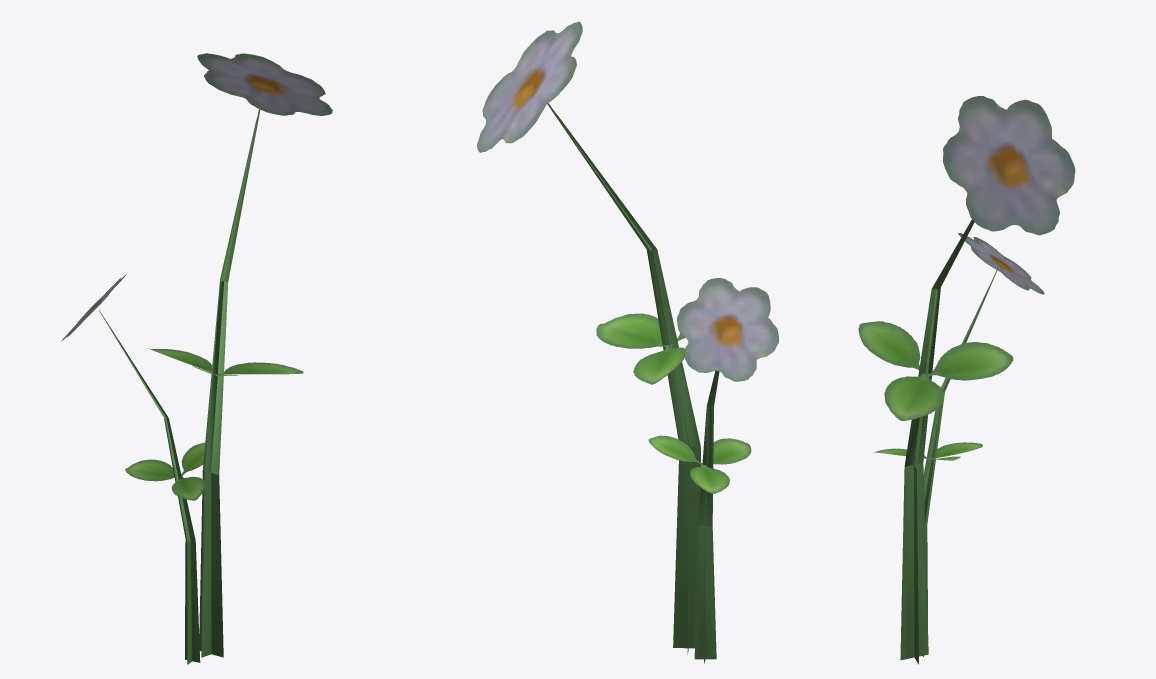
Rendered from pref_sm_beach_techflower09_lv2.fbx.
3 views of the same model, side by side, from view 1: azimuth 30°, elevation 25°; view 2: azimuth 150°, elevation 25°; view 3: azimuth 270°, elevation 25° (orthographic). The views are drawn at different scales.
Parts seen in each view (by area): view 1: pref_sm_beach_techflower09_lv2; view 2: pref_sm_beach_techflower09_lv2; view 3: pref_sm_beach_techflower09_lv2.
Part boxes in pixels (x1,y1,x2,y2): pref_sm_beach_techflower09_lv2: [61, 53, 332, 664]; pref_sm_beach_techflower09_lv2: [477, 21, 778, 663]; pref_sm_beach_techflower09_lv2: [858, 96, 1075, 664].
Size of the model in its own units: 0.2408 by 0.436 by 0.1906.
